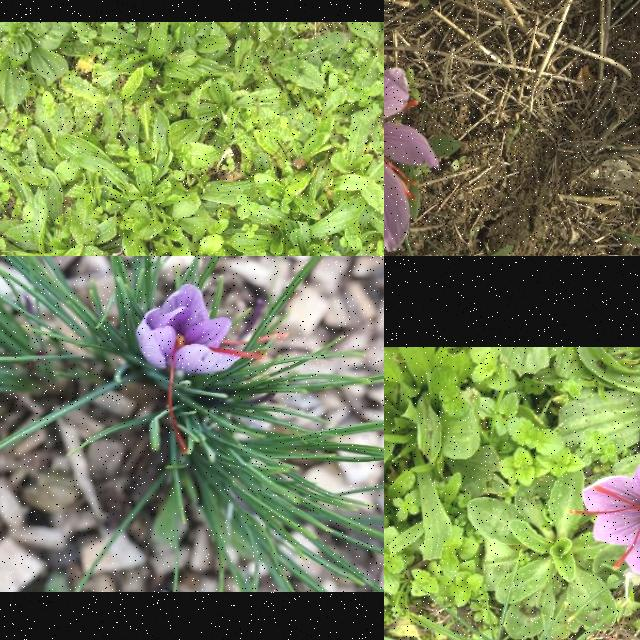flower: (136, 283, 290, 453), (384, 68, 440, 254), (569, 457, 640, 575)
